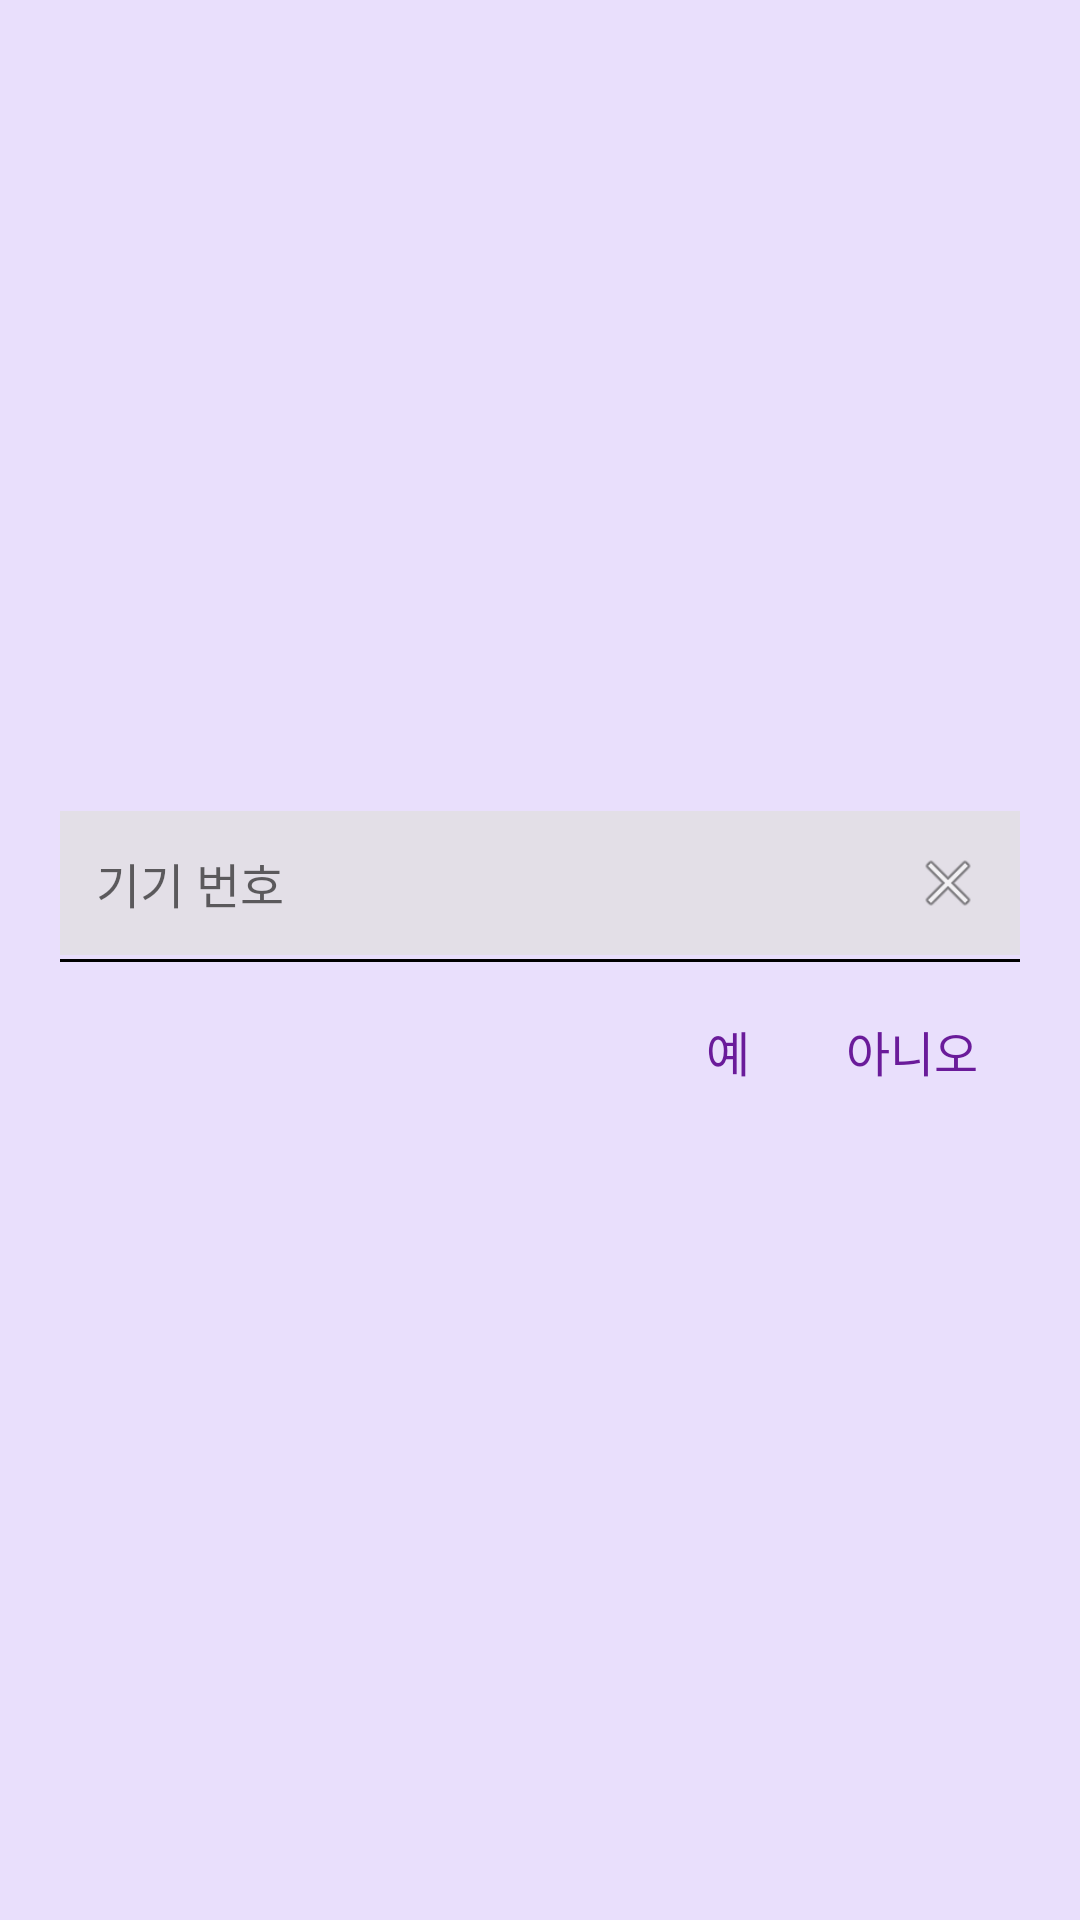

Where icons sit on this 1080×1920 app screen, as Rect(x1, y1, x2, y2):
지우기 버튼: Rect(925, 860, 971, 906)
